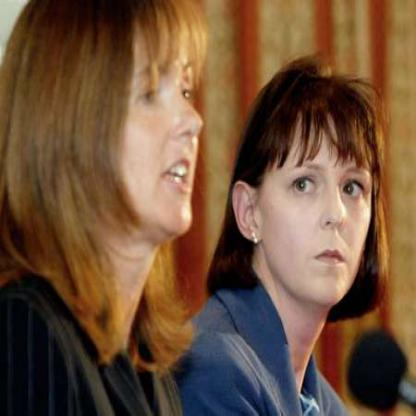face: (74, 24, 232, 245), (258, 92, 375, 310)
